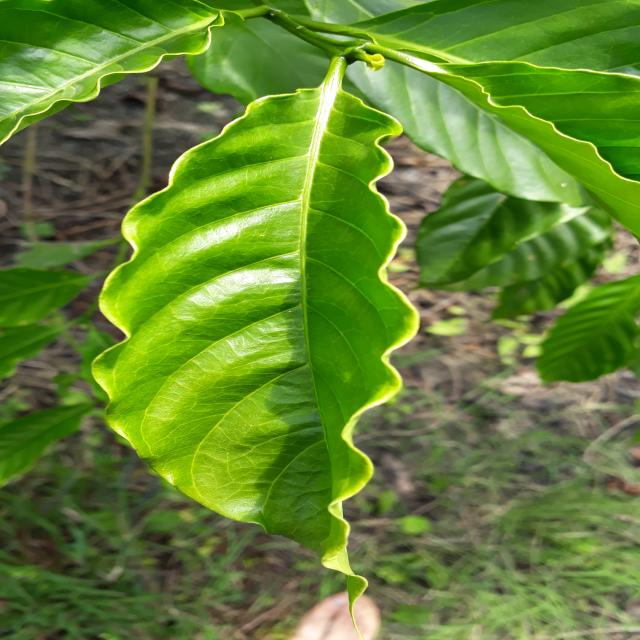Sanas: (86, 59, 421, 602)
